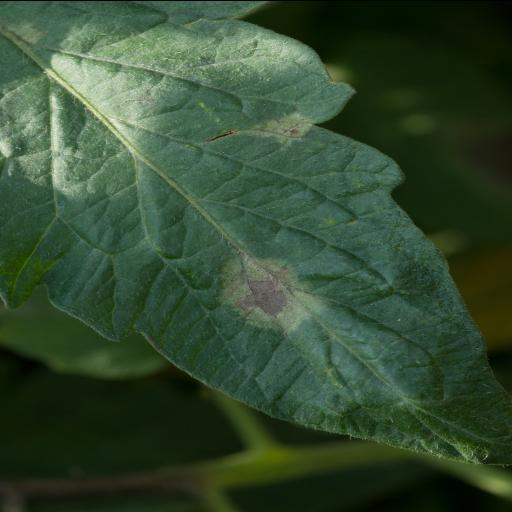disease_tomato: (0, 0, 512, 467)
